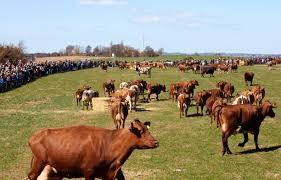cow: (26, 119, 160, 180), (211, 99, 277, 156), (170, 79, 199, 103), (110, 88, 136, 112), (110, 100, 129, 129), (146, 84, 167, 102), (177, 92, 191, 117), (82, 90, 98, 110), (76, 86, 90, 105), (102, 79, 116, 97), (200, 65, 217, 78), (131, 84, 141, 106), (244, 71, 255, 87), (224, 82, 235, 98), (119, 81, 129, 89), (231, 63, 238, 73)
